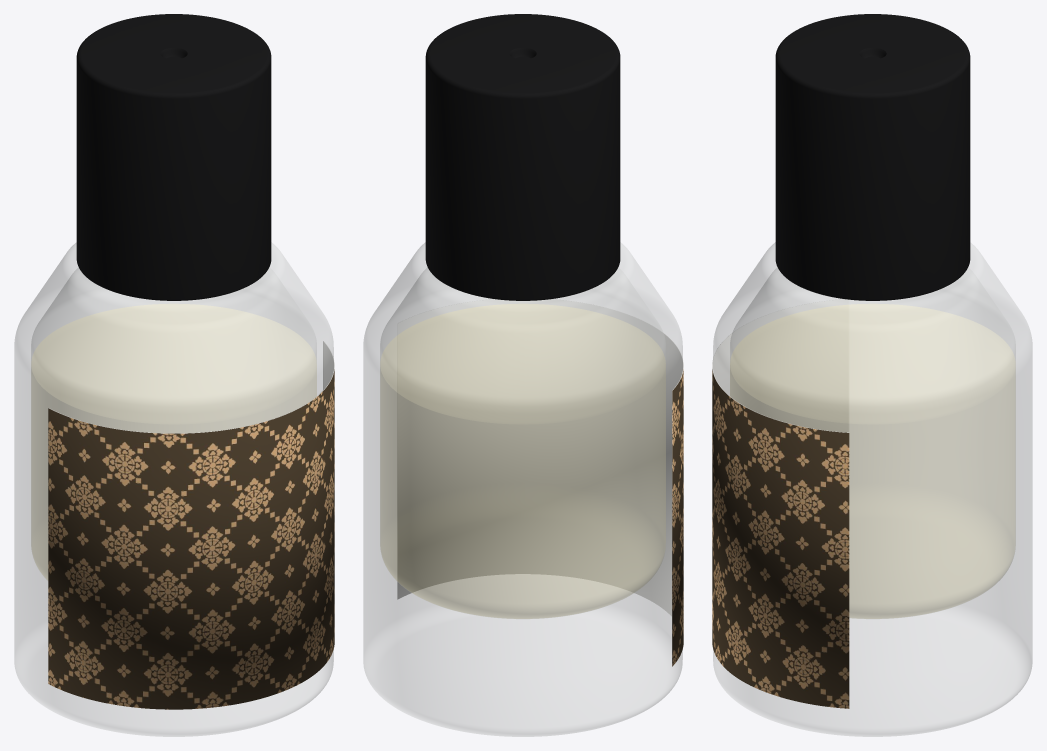
The model's file is bayu.glb.
3 views of the same model, side by side, from view 1: azimuth 30°, elevation 25°; view 2: azimuth 150°, elevation 25°; view 3: azimuth 270°, elevation 25° (orthographic).
Visible parts, largest first — view 1: Bottle_Label, Bottle_Glass, Cap_Main, Perfume_Liquid; view 2: Bottle_Glass, Perfume_Liquid, Bottle_Label, Cap_Main; view 3: Bottle_Glass, Perfume_Liquid, Cap_Main, Bottle_Label.
Part boxes in pixels (bbox=[...]): Bottle_Label: bbox=[48, 341, 334, 709]; Bottle_Glass: bbox=[14, 242, 333, 736]; Cap_Main: bbox=[76, 14, 271, 300]; Perfume_Liquid: bbox=[31, 304, 316, 579]; Bottle_Glass: bbox=[363, 242, 682, 736]; Perfume_Liquid: bbox=[380, 304, 665, 618]; Bottle_Label: bbox=[397, 299, 683, 666]; Cap_Main: bbox=[425, 14, 620, 300]; Bottle_Glass: bbox=[713, 242, 1032, 736]; Perfume_Liquid: bbox=[730, 304, 1015, 618]; Cap_Main: bbox=[775, 14, 970, 300]; Bottle_Label: bbox=[712, 299, 849, 708].
Bounding box in the file's own units: 0.042 × 0.09 × 0.0421.
6 materials, 1 textured.
